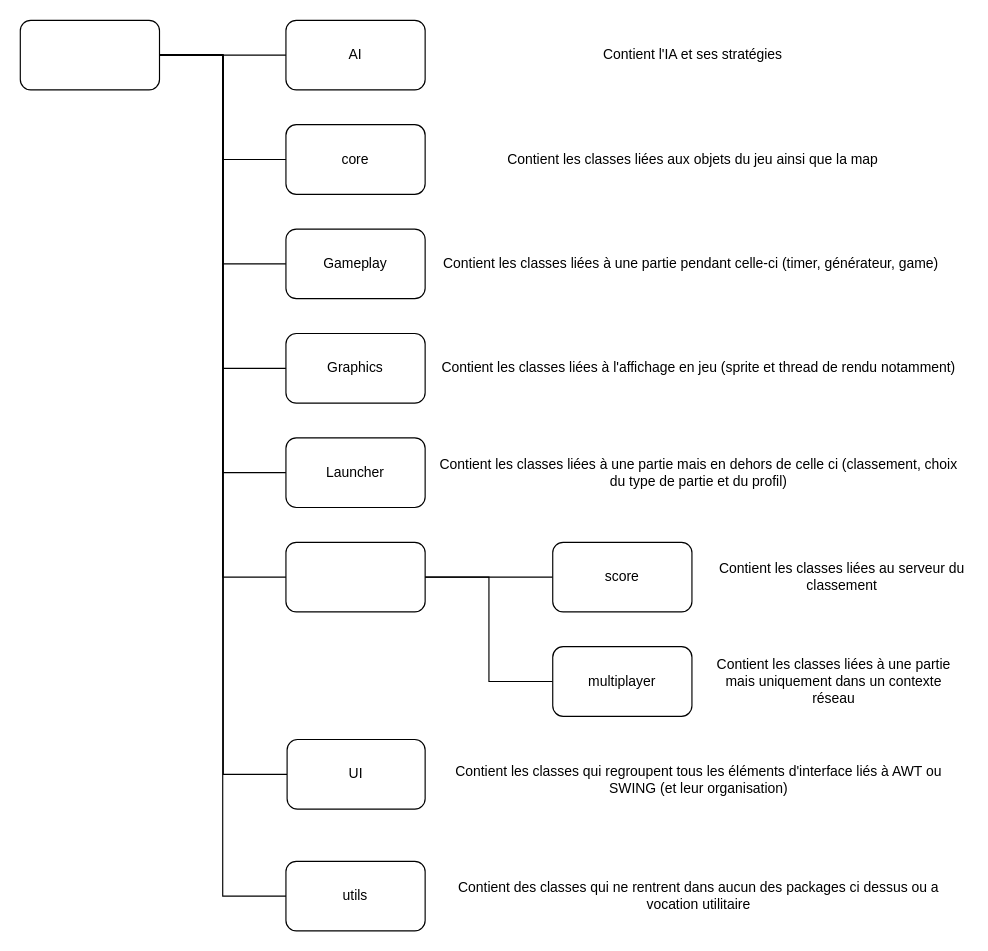
Some shapes in this 988 by 951 pixel diagram are drawn without their labels. The box of each missing label's shape, as (x1, y1, x2, y2) in pixels:
com.generic: (19, 19, 160, 90)
net: (285, 541, 425, 612)
